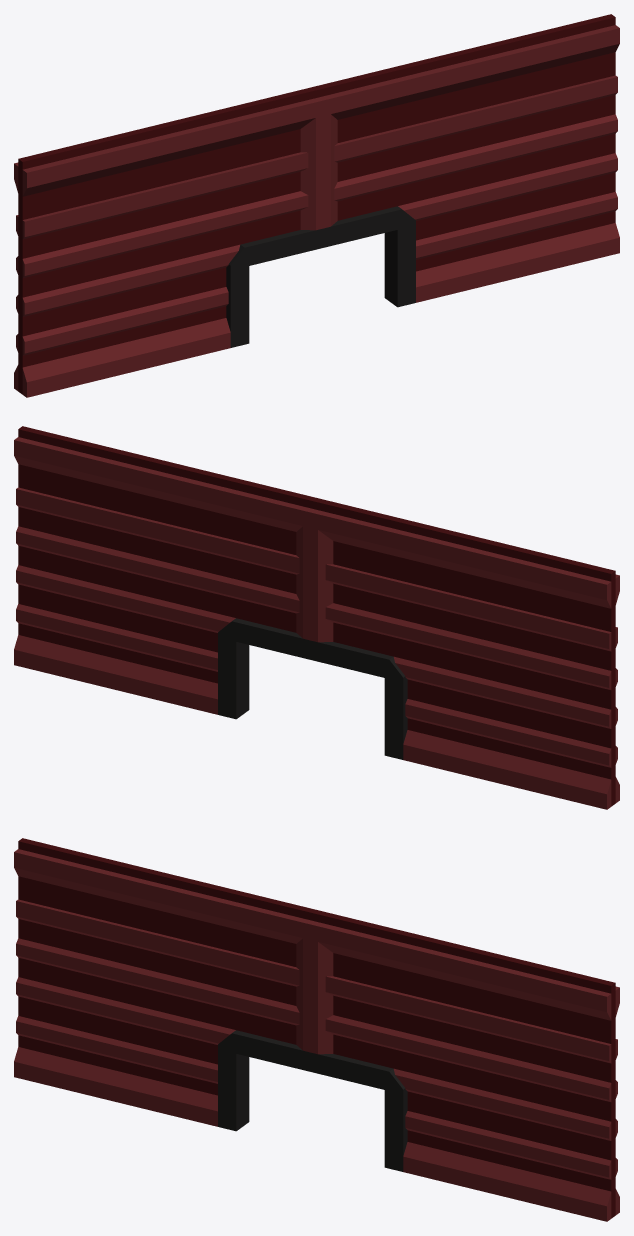
The model's file is Large_Wall_Door_Interior.glb.
3 renders of one model, top to bottom at view 1: azimuth 30°, elevation 25°; view 2: azimuth 150°, elevation 25°; view 3: azimuth 330°, elevation 25°, orthographic.
Visible parts, largest first — view 1: Large_Wall_Doorway, Large_Doorway_Wall_Panel, Large_Wall_Interior_Top_Bottom_Panel, Large_Frame, Large_Wall_Interior_Center_Panel; view 2: Large_Wall_Doorway, Large_Doorway_Wall_Panel.001, Large_Wall_Interior_Top_Bottom_Panel.001, Large_Frame, Large_Wall_Interior_Center_Panel.001; view 3: Large_Wall_Doorway, Large_Doorway_Wall_Panel, Large_Wall_Interior_Top_Bottom_Panel, Large_Frame, Large_Wall_Interior_Center_Panel.
Boxes of the visible parts, box(x1,y1,x2,y2) form: Large_Wall_Doorway: box(18, 14, 615, 394); Large_Doorway_Wall_Panel: box(22, 75, 617, 355); Large_Wall_Interior_Top_Bottom_Panel: box(22, 25, 619, 397); Large_Frame: box(226, 206, 415, 347); Large_Wall_Interior_Center_Panel: box(300, 114, 337, 230); Large_Wall_Doorway: box(18, 426, 615, 806); Large_Doorway_Wall_Panel.001: box(16, 487, 611, 767); Large_Wall_Interior_Top_Bottom_Panel.001: box(14, 437, 611, 809); Large_Frame: box(218, 618, 407, 759); Large_Wall_Interior_Center_Panel.001: box(296, 526, 333, 642); Large_Wall_Doorway: box(18, 838, 615, 1218); Large_Doorway_Wall_Panel: box(16, 899, 611, 1179); Large_Wall_Interior_Top_Bottom_Panel: box(14, 849, 611, 1221); Large_Frame: box(218, 1030, 407, 1171); Large_Wall_Interior_Center_Panel: box(296, 938, 333, 1054).
Bounding box in the file's own units: 16 × 6 × 0.6.
